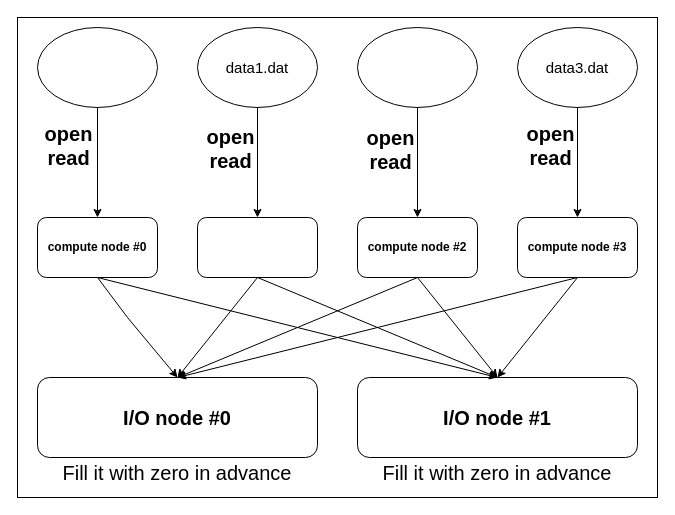
Image size: 675x515. Some labels were removed from this diagram. Here are the shapes that lost their labels. From the top down, the centre of each, then its label:
At (x=97, y=67): "data0.dat".
At (x=417, y=67): "data2.dat".
At (x=257, y=247): "compute node #1".
